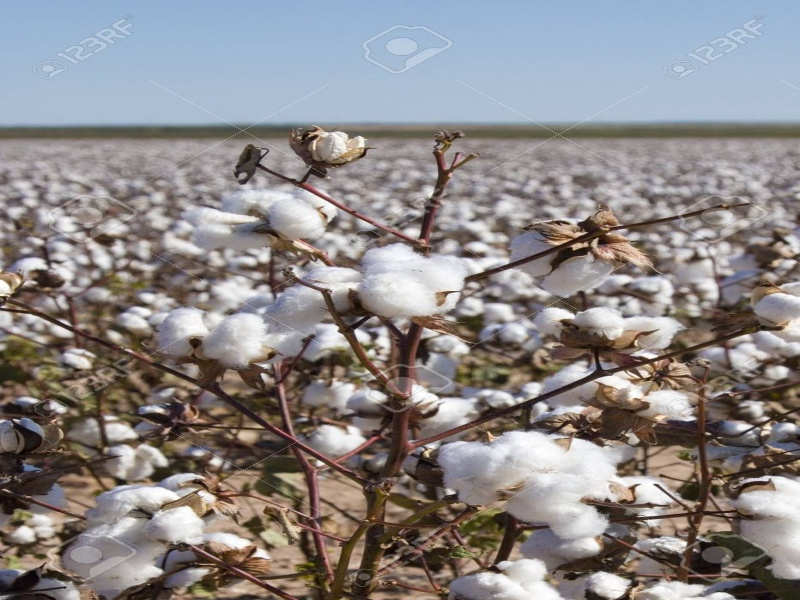cotton: (1, 130, 797, 598)
